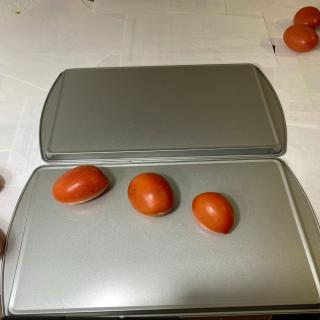Tomato: (52, 165, 109, 205), (127, 172, 174, 218), (192, 192, 235, 234), (282, 24, 318, 52), (293, 6, 320, 30)
